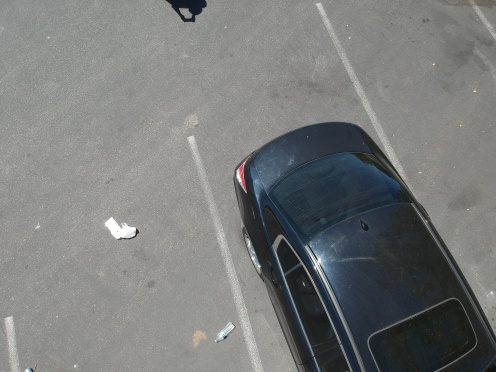bottle: (207, 319, 239, 344)
plastic bag: (98, 217, 140, 244)
